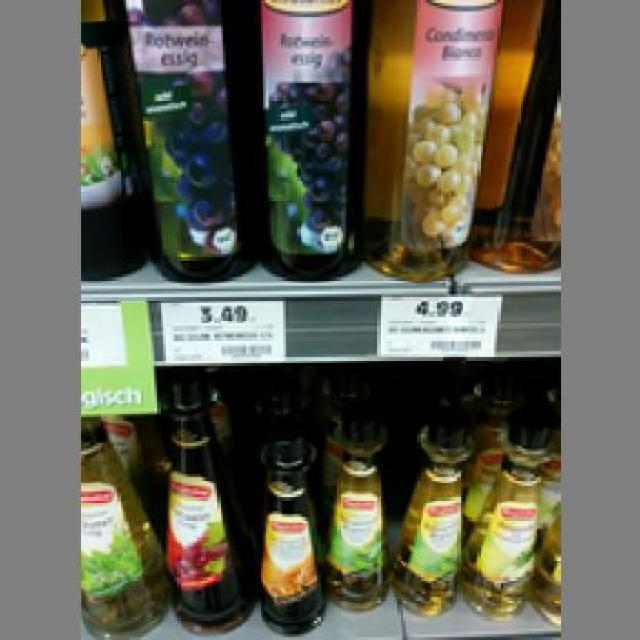Vinegar: (114, 0, 257, 277), (371, 0, 500, 277), (248, 0, 366, 277), (75, 414, 172, 637), (162, 386, 248, 631), (242, 434, 328, 634), (460, 417, 543, 623), (402, 406, 472, 626), (323, 417, 391, 612)
